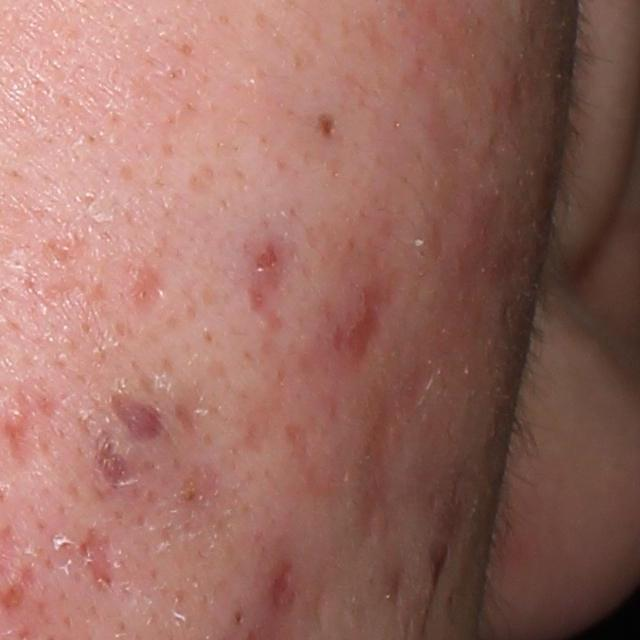atrophic_scar: (342, 374, 413, 535), (247, 236, 297, 338), (347, 279, 390, 369), (104, 396, 170, 449), (77, 526, 116, 596), (128, 272, 169, 314), (176, 402, 202, 442)
